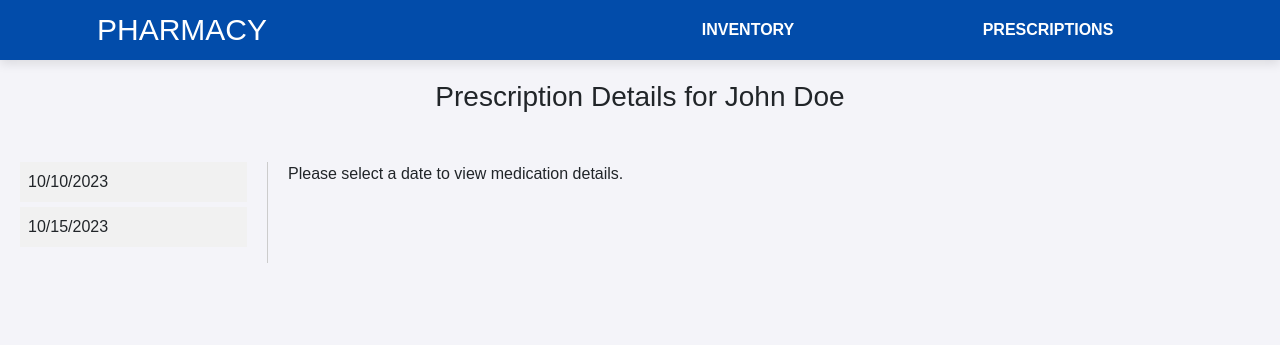
it: PatientPrescriptions Component › displays medications for selected date
The image size is (1280, 345).
Click the text "10/10/2023". click: (68, 181)
box: x1=28 y1=173 x2=108 y2=190
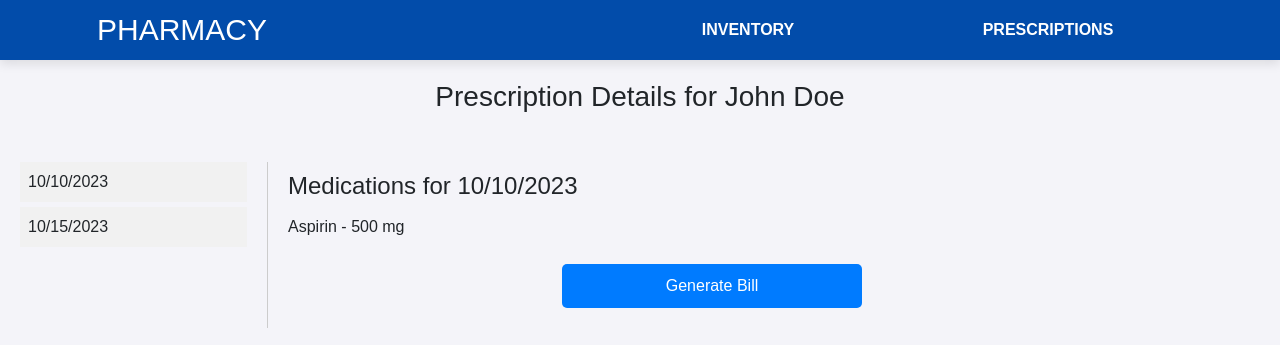
Result: the heading "Medications for 10/10/2023" is shown at x1=288 y1=172 x2=578 y2=199
Result: the list item "Aspirin - 500 mg" is shown at x1=288 y1=218 x2=404 y2=235
